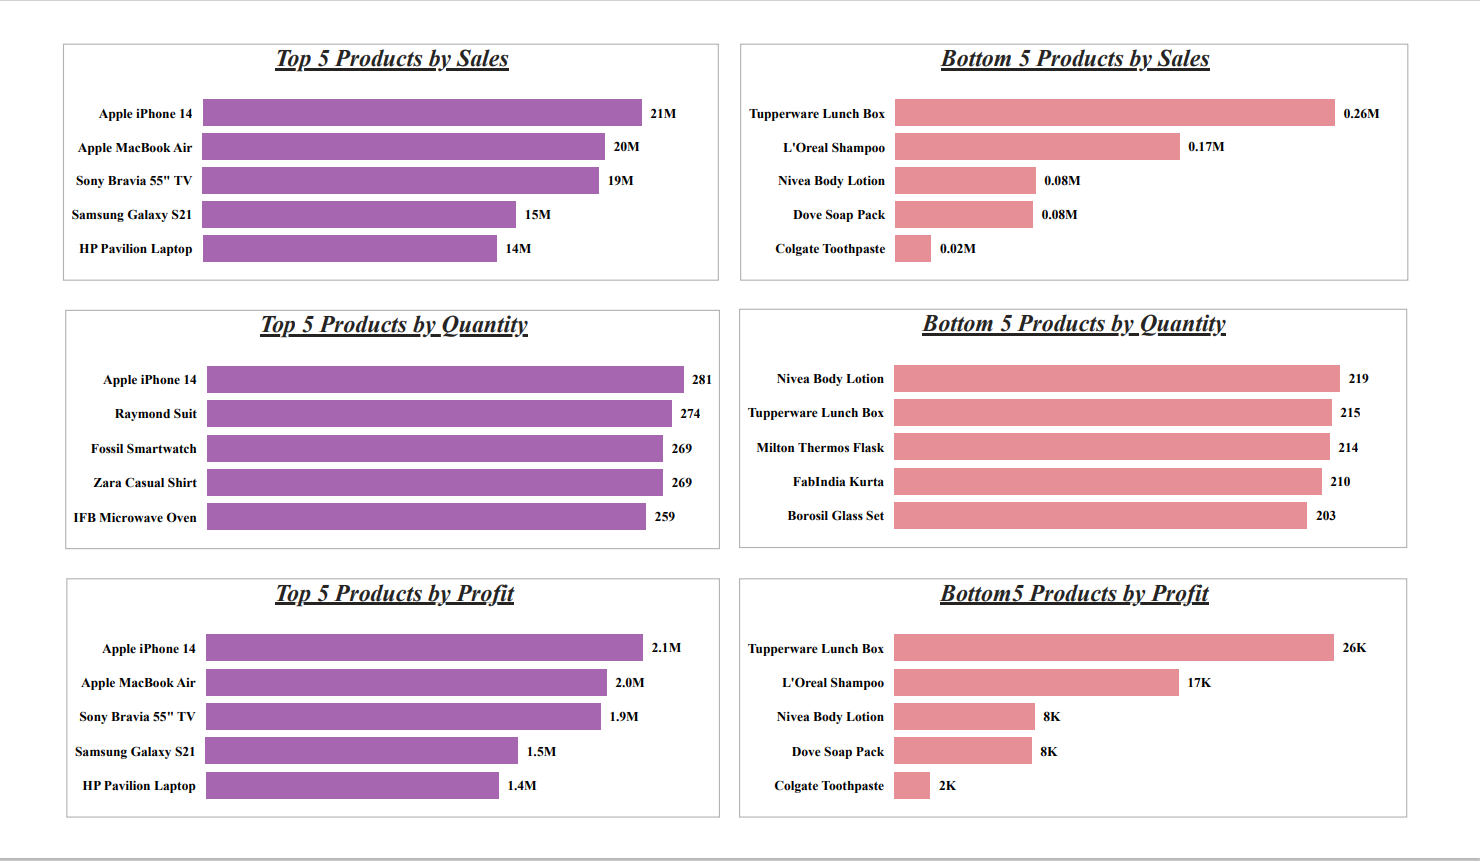

The dashboard page shown, as its layout file describes it:
{"tool":"powerbi","page":{"name":"Top/Bottom 5  Analysis","canvas":[1280,720],"ordinal":1},"visuals":[{"type":"barChart","title":"Top 5 Products by  Sales ","fields":{"Category":["Dim Product.Product Name"],"Y":["Sum(Fact Table.Net Sales  )"]},"box":[35.5,14.7,587,212.8],"z":0},{"type":"barChart","title":"Bottom 5 Products by  Sales ","fields":{"Category":["Dim Product.Product Name"],"Y":["Sum(Fact Table.Net Sales  )"]},"box":[640.8,14.7,598,212.8],"z":1000},{"type":"barChart","title":"Top 5 Products by  Quantity","fields":{"Category":["Dim Product.Product Name"],"Y":["Sum(Fact Table.Units Sold)"]},"box":[36.8,252.7,585.7,214],"z":2000},{"type":"barChart","title":"Bottom 5 Products by  Quantity","fields":{"Category":["Dim Product.Product Name"],"Y":["Sum(Fact Table.Units Sold)"]},"box":[639.5,252.4,598.8,213.6],"z":3000},{"type":"barChart","title":"Top 5 Products by  Profit","fields":{"Category":["Dim Product.Product Name"],"Y":["Sum(Fact Table.Profit)"]},"box":[37.8,493.1,585.2,213.6],"z":4000},{"type":"barChart","title":"Bottom5 Products by  Profit","fields":{"Category":["Dim Product.Product Name"],"Y":["Sum(Fact Table.Profit)"]},"box":[639.5,493.1,598.8,213.6],"z":5000}]}

Visuals, with their boxes on the page's 1280x720 design canvas (x1, y1, x2, y2). These are canvas units, not pixel positions in the 1480x861 screenshot, which may show the page scaled, cropped or inside an application window:
"Top 5 Products by  Sales " barChart: detection(36, 15, 622, 228)
"Bottom 5 Products by  Sales " barChart: detection(641, 15, 1239, 228)
"Top 5 Products by  Quantity" barChart: detection(37, 253, 622, 467)
"Bottom 5 Products by  Quantity" barChart: detection(640, 252, 1238, 466)
"Top 5 Products by  Profit" barChart: detection(38, 493, 623, 707)
"Bottom5 Products by  Profit" barChart: detection(640, 493, 1238, 707)
